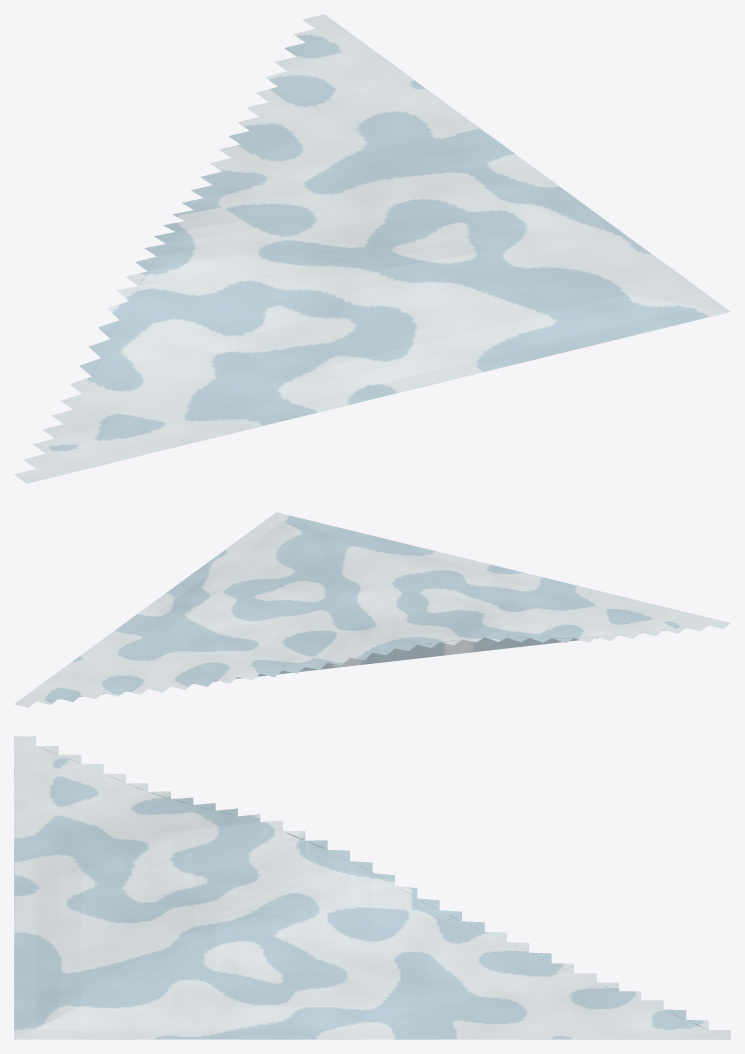
The model's file is Snow_Flat_08_NE.obj.
3 views of the same model, one above another, from view 1: azimuth 30°, elevation 25°; view 2: azimuth 150°, elevation 25°; view 3: azimuth 270°, elevation 25° (orthographic). The views are drawn at different scales.
Size of the model in its own units: 10 by 0.3075 by 10.
1 material, 1 textured.
